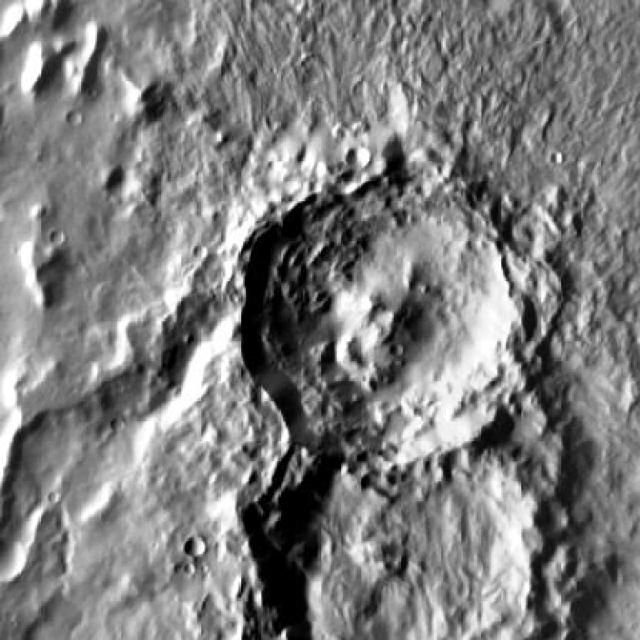crater: (253, 173, 549, 465), (274, 417, 555, 640), (102, 166, 138, 202), (186, 538, 206, 558), (348, 148, 368, 168)
